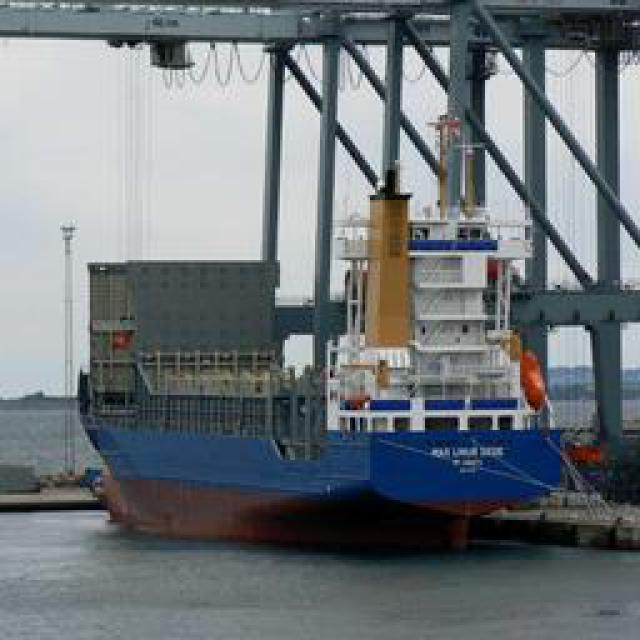Ship: (80, 158, 618, 543)
